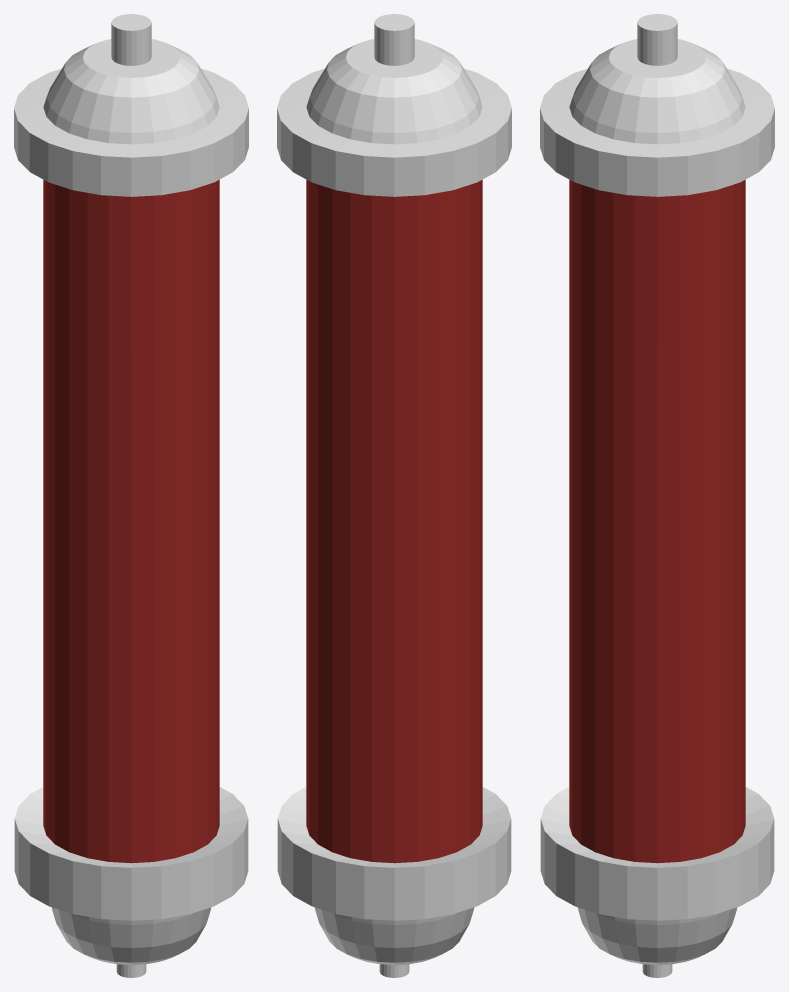
Rendered from Fuse.fbx.
3 views of the same model, side by side, from view 1: azimuth 30°, elevation 25°; view 2: azimuth 150°, elevation 25°; view 3: azimuth 270°, elevation 25° (orthographic).
Parts seen in each view (by area): view 1: Cylinder; view 2: Cylinder; view 3: Cylinder.
Part boxes in pixels (<box>): Cylinder: <box>14,14,248,977</box>; Cylinder: <box>277,14,511,977</box>; Cylinder: <box>540,14,774,977</box>.
Size of the model in its own units: 6.1 by 27.18 by 6.1.
